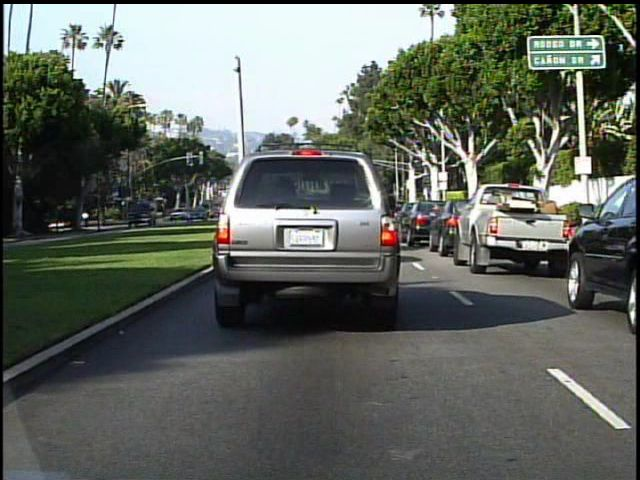person: (82, 209, 93, 228)
